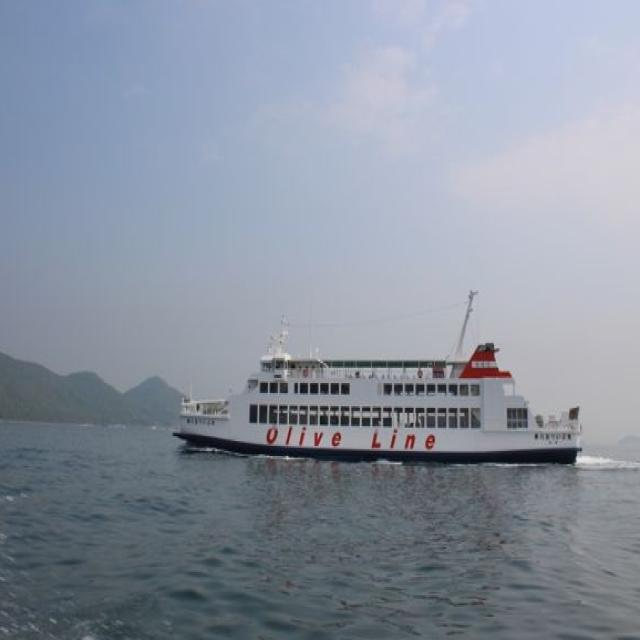passenger ship: (154, 310, 594, 481)
